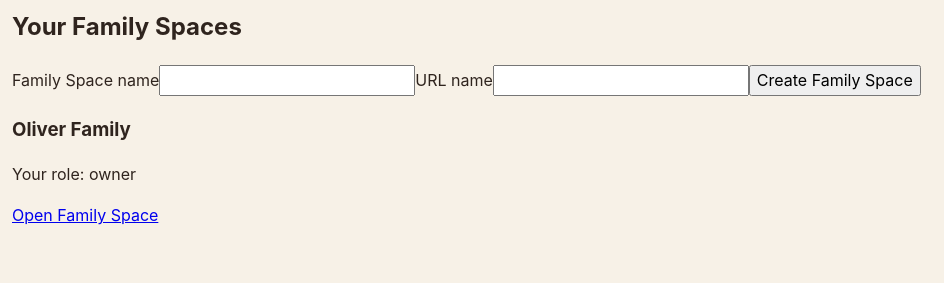
Scenario: FamilySpaceManagement › creates through the feature mutation
Expected: the heading "Oliver Family" is shown, left=12, top=118, right=131, bottom=140
Type "New Family" into the field labelled "Family Space name" at (287, 80), box left=159, top=65, right=415, bottom=96
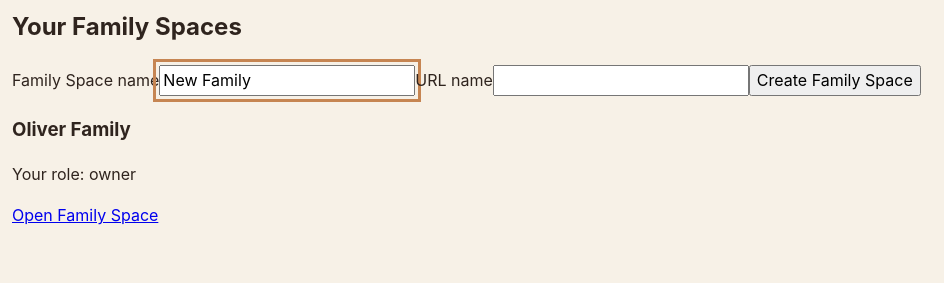
Type "new-family" into the field labelled "URL name" at (621, 80), box left=493, top=65, right=749, bottom=96
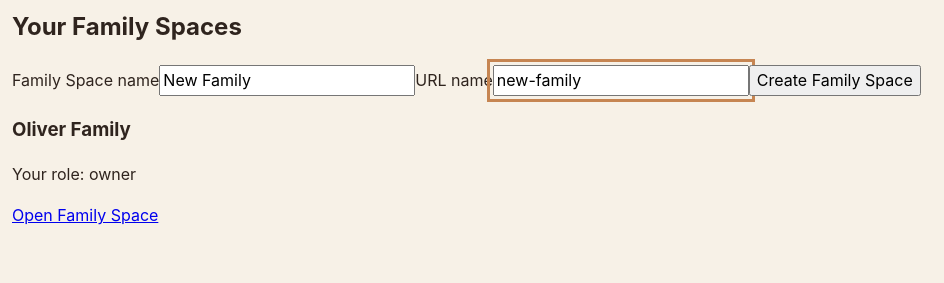
Click the button "Create Family Space" at (835, 80), box left=749, top=65, right=921, bottom=96
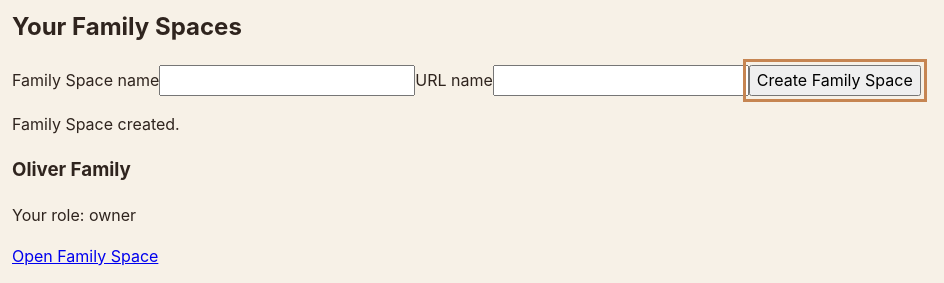
Expected: the text "Family Space created." is shown, left=12, top=114, right=180, bottom=134
